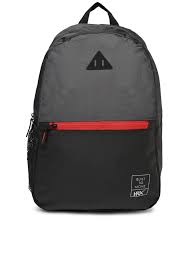backpack: (25, 1, 162, 211)
